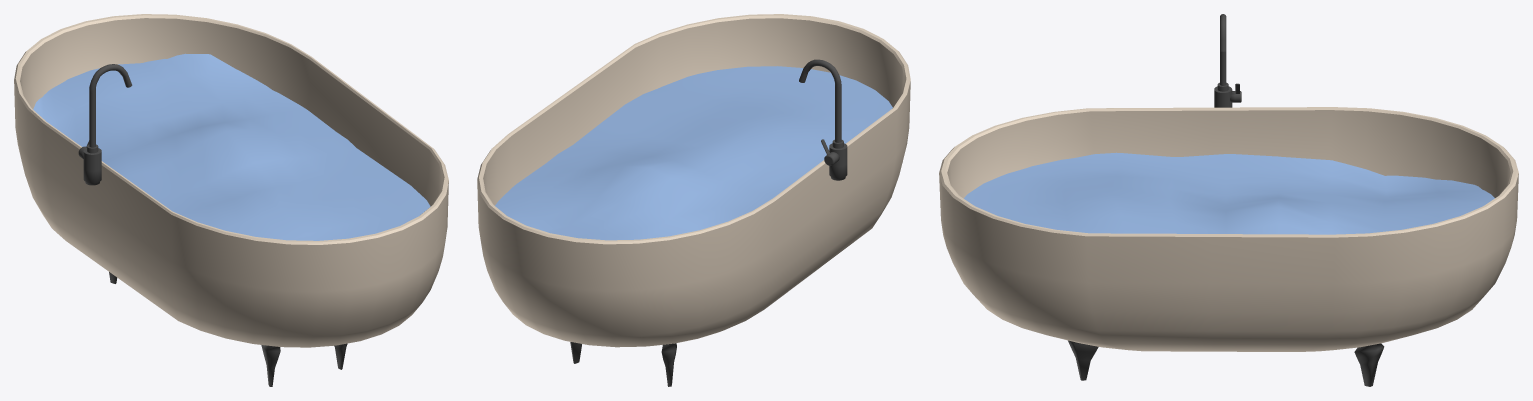
File: bath with water.fbx
The picture shows the model from 3 angles, left to right: view 1: azimuth 30°, elevation 25°; view 2: azimuth 150°, elevation 25°; view 3: azimuth 270°, elevation 25°; orthographic projection.
Visible parts, largest first — view 1: Cylinder.007, Plane.001; view 2: Cylinder.007, Plane.001; view 3: Cylinder.007, Plane.001.
Part boxes in pixels (x1,y1,x2,y2): Cylinder.007: [14, 14, 448, 386]; Plane.001: [33, 53, 430, 240]; Cylinder.007: [477, 14, 910, 386]; Plane.001: [495, 66, 892, 240]; Cylinder.007: [939, 14, 1518, 386]; Plane.001: [964, 152, 1494, 234].
Bounding box in the file's own units: 101 × 99.15 × 182.
